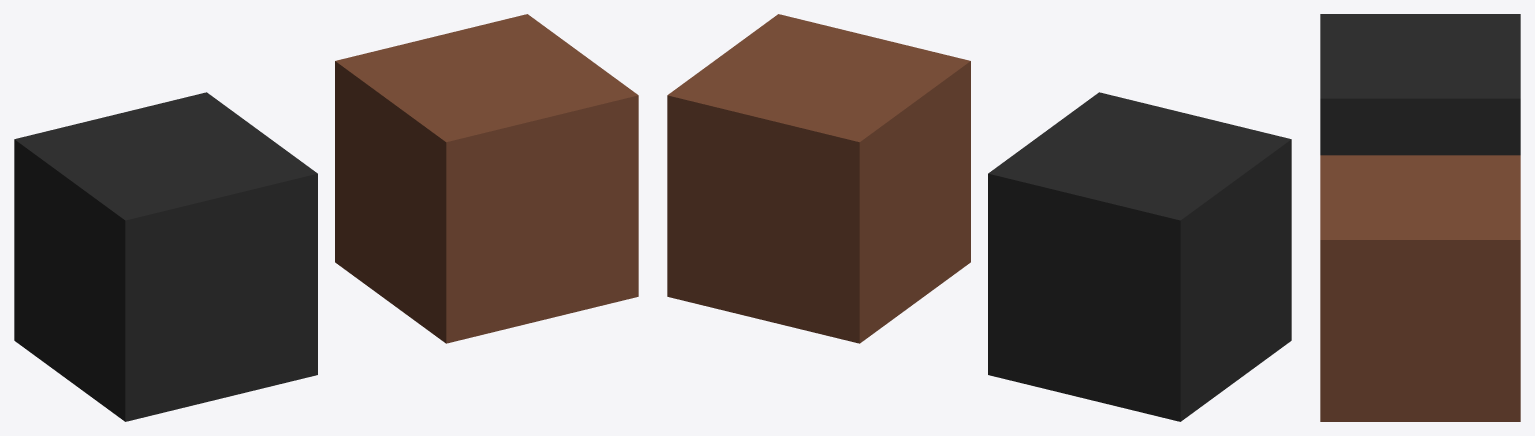
Rendered from oilpump.glb.
3 views of the same model, side by side, from view 1: azimuth 30°, elevation 25°; view 2: azimuth 150°, elevation 25°; view 3: azimuth 270°, elevation 25° (orthographic). The views are drawn at different scales.
Parts seen in each view (by area): view 1: Node1, Node2; view 2: Node1, Node2; view 3: Node2, Node1.
Boxes of the visible parts, x1,y1,x2,y2 form: Node1: [14, 92, 317, 421]; Node2: [335, 14, 638, 343]; Node1: [988, 92, 1291, 421]; Node2: [667, 14, 970, 343]; Node2: [1320, 155, 1520, 421]; Node1: [1320, 14, 1520, 155].
Size of the model in its own units: 16 by 6 by 6.
